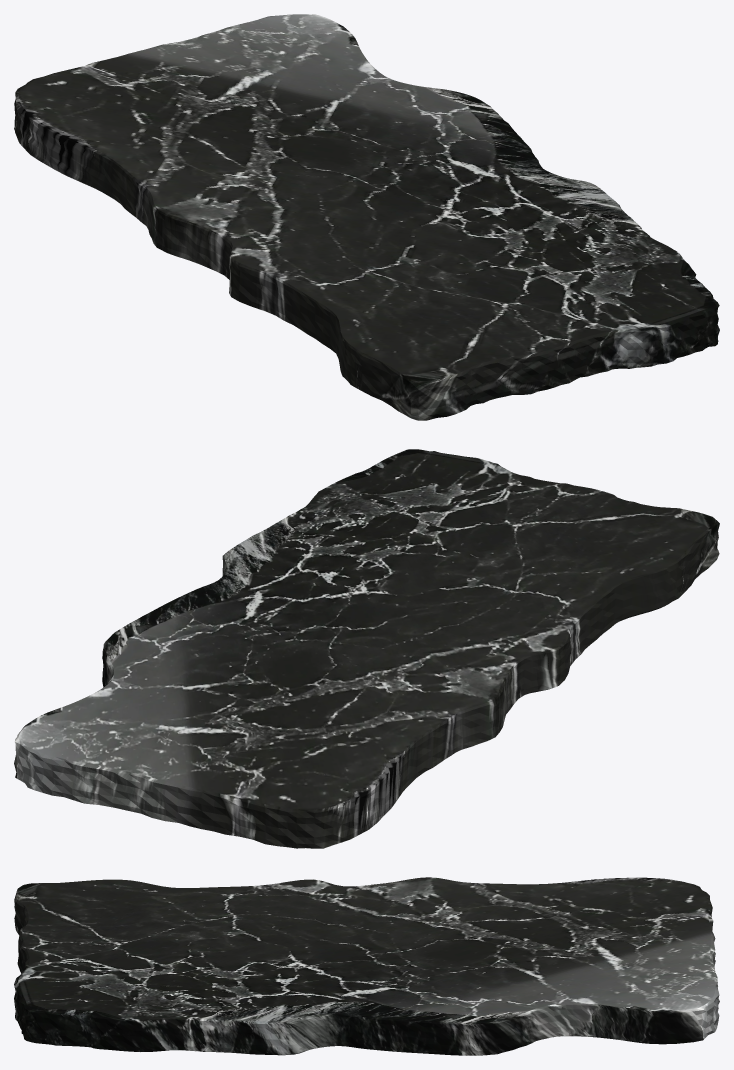
The model's file is black-marble-irregular-slab.glb.
3 views of the same model, one above another, from view 1: azimuth 30°, elevation 25°; view 2: azimuth 150°, elevation 25°; view 3: azimuth 270°, elevation 25° (orthographic). The views are drawn at different scales.
Parts seen in each view (by area): view 1: Black marble irregular slab; view 2: Black marble irregular slab; view 3: Black marble irregular slab.
Part boxes in pixels (x1,y1,x2,y2): Black marble irregular slab: (14,14,719,420); Black marble irregular slab: (14,449,719,848); Black marble irregular slab: (14,877,719,1055).
Bounding box in the file's own units: 1.43 × 0.15 × 2.89.
Materials: 3 (3 with a texture image).
